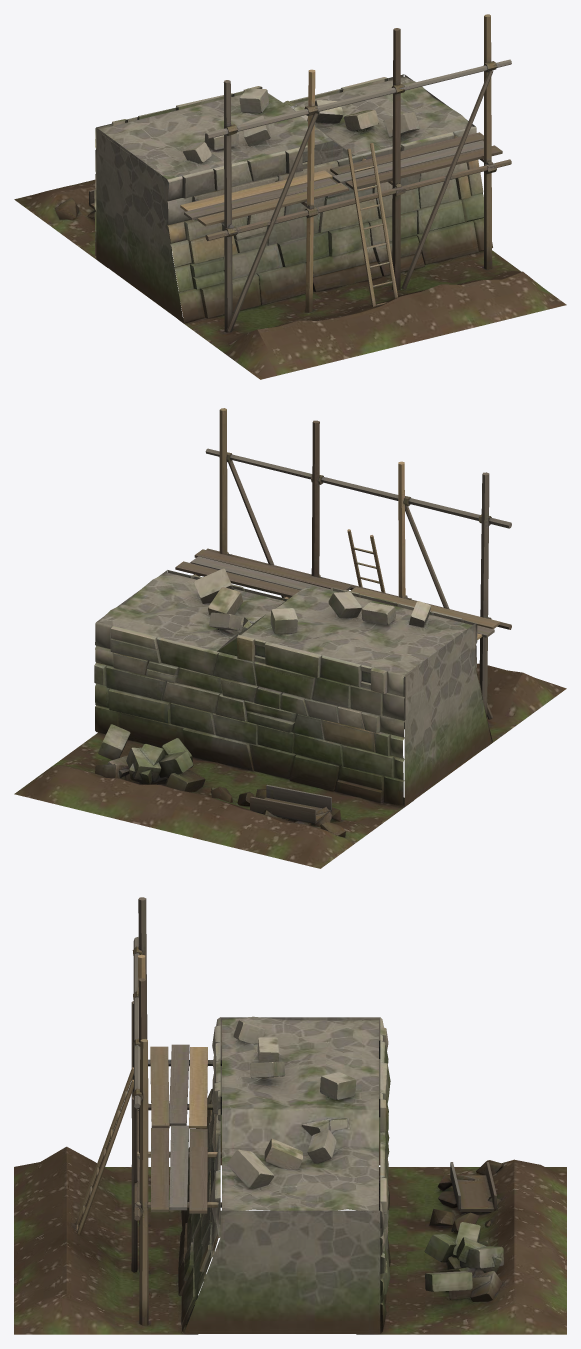
Rendered from wall_stone_build1.glb.
The picture shows the model from 3 angles, top to bottom: view 1: azimuth 30°, elevation 25°; view 2: azimuth 150°, elevation 25°; view 3: azimuth 270°, elevation 25°; orthographic projection. The views are drawn at different scales.
Visible parts, largest first — view 1: wall_stone_build1_LOD0; view 2: wall_stone_build1_LOD0; view 3: wall_stone_build1_LOD0.
Part boxes in pixels (x1=…): wall_stone_build1_LOD0: x1=14, y1=14, x2=566, y2=379; wall_stone_build1_LOD0: x1=14, y1=408, x2=566, y2=868; wall_stone_build1_LOD0: x1=14, y1=897, x2=566, y2=1334.
Size of what is drawn, in the model's own units: 6 by 4.97 by 8.3.
1 material, 1 textured.
